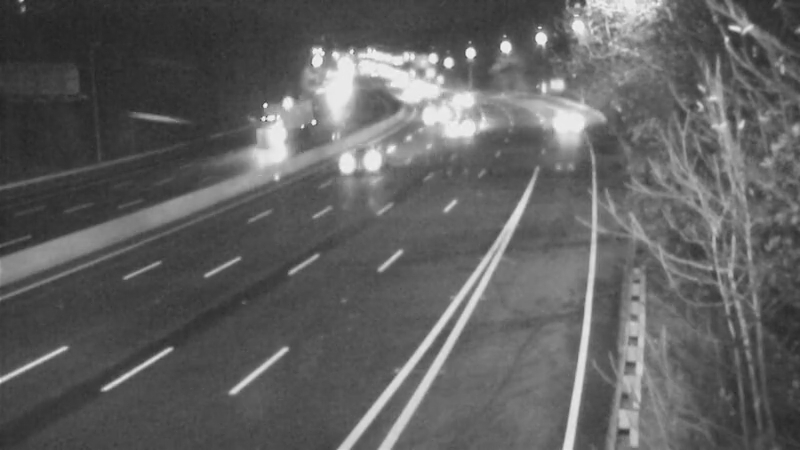vehicle: (316, 119, 396, 199), (382, 71, 432, 121), (435, 74, 485, 124), (539, 95, 589, 145), (406, 88, 456, 138), (430, 100, 480, 150), (239, 113, 289, 163)
